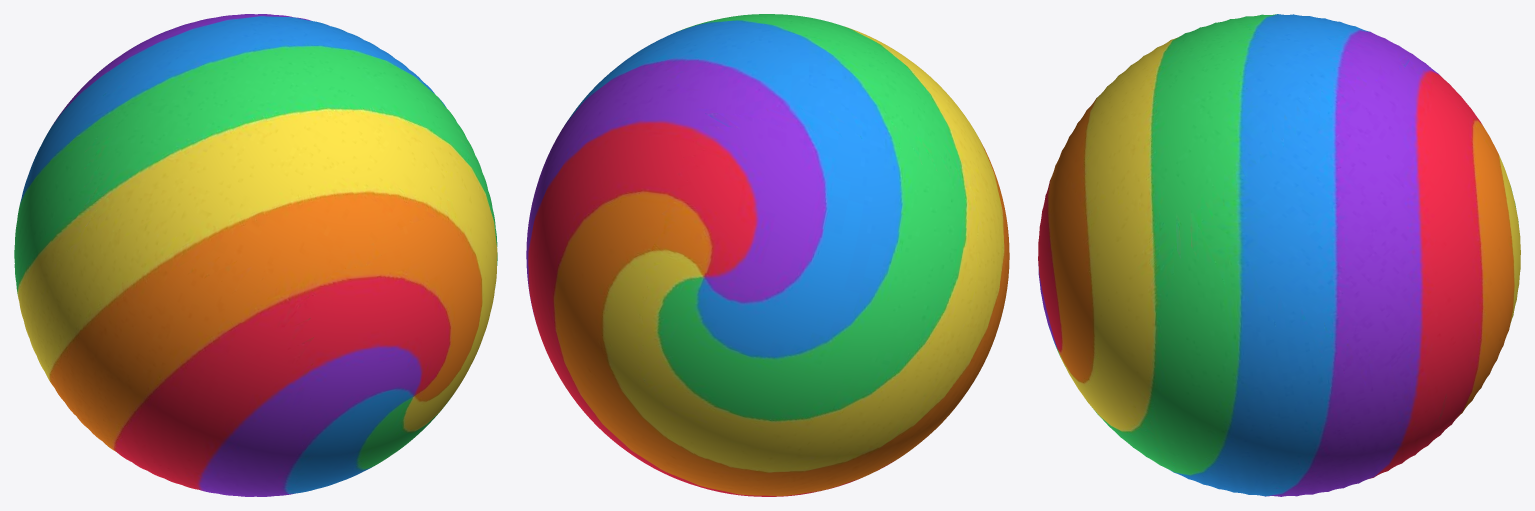
3 views of the same model, side by side, from view 1: azimuth 30°, elevation 25°; view 2: azimuth 150°, elevation 25°; view 3: azimuth 270°, elevation 25° (orthographic).
Parts seen in each view (by area): view 1: anim_Rainbow_candy_glaze_0; view 2: anim_Rainbow_candy_glaze_0; view 3: anim_Rainbow_candy_glaze_0.
Part boxes in pixels (bbox=[...]): anim_Rainbow_candy_glaze_0: bbox=[14, 14, 497, 496]; anim_Rainbow_candy_glaze_0: bbox=[526, 14, 1009, 496]; anim_Rainbow_candy_glaze_0: bbox=[1038, 14, 1520, 496].
Bounding box in the file's own units: 0.7796 × 0.7799 × 0.7799.
Materials: 1 (1 with a texture image).
